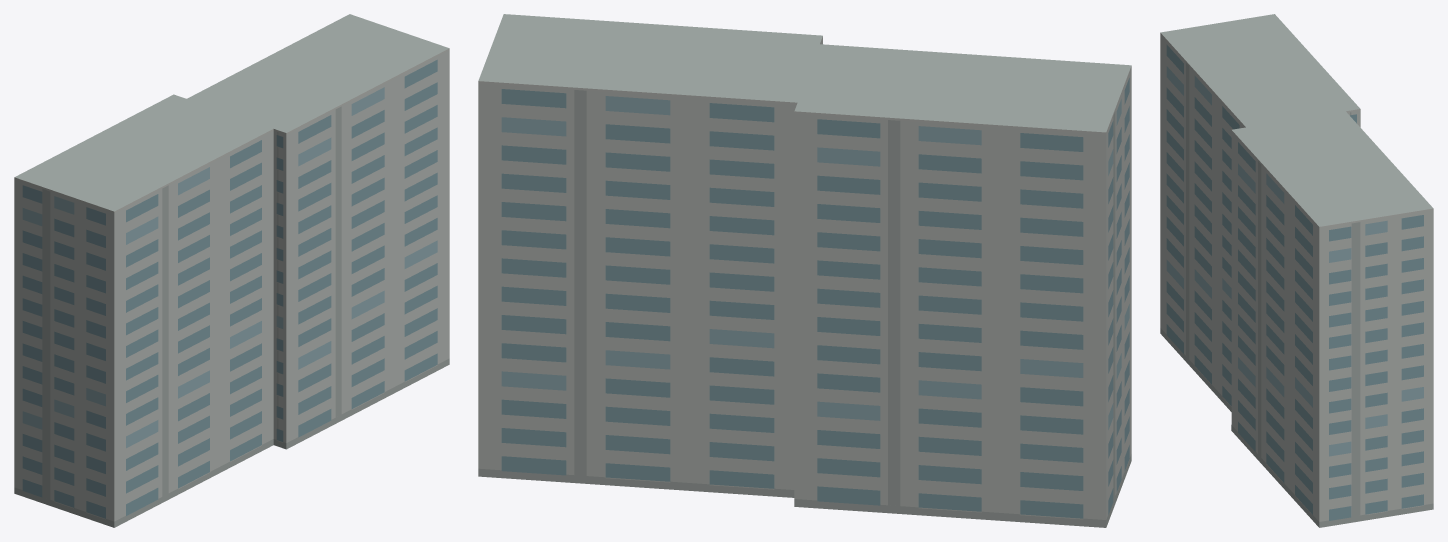
File: residential-1427d7a0-daaf-4219-b8bc-00a6157b2260.glb
3 views of the same model, side by side, from view 1: azimuth 30°, elevation 25°; view 2: azimuth 150°, elevation 25°; view 3: azimuth 270°, elevation 25° (orthographic). The views are drawn at different scales.
Parts seen in each view (by area): view 1: residential-1427d7a0-daaf-4219-b8bc-00a6157b2260.tmp; view 2: residential-1427d7a0-daaf-4219-b8bc-00a6157b2260.tmp; view 3: residential-1427d7a0-daaf-4219-b8bc-00a6157b2260.tmp.
Boxes of the visible parts, box(x1,y1,x2,y2) form: residential-1427d7a0-daaf-4219-b8bc-00a6157b2260.tmp: box(14, 14, 449, 527); residential-1427d7a0-daaf-4219-b8bc-00a6157b2260.tmp: box(478, 14, 1131, 527); residential-1427d7a0-daaf-4219-b8bc-00a6157b2260.tmp: box(1160, 14, 1433, 527).
Bounding box in the file's own units: 63.72 × 42 × 34.56.
